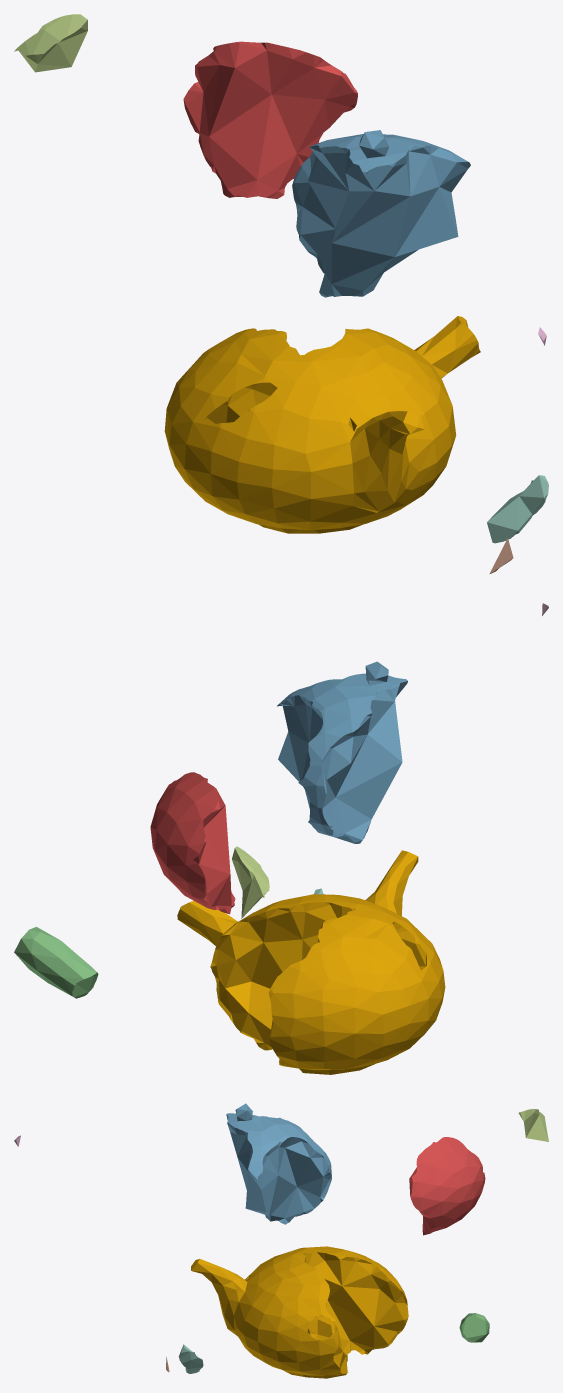
The model's file is fractured_12_8pcs_transformed.glb.
3 renders of one model, top to bottom at view 1: azimuth 30°, elevation 25°; view 2: azimuth 150°, elevation 25°; view 3: azimuth 270°, elevation 25°, orthographic. The views are drawn at different scales.
Visible parts, largest first — view 1: piece_0.obj, piece_2.obj, piece_1.obj, piece_5.obj, piece_4.obj; view 2: piece_0.obj, piece_2.obj, piece_1.obj, piece_3.obj, piece_5.obj; view 3: piece_0.obj, piece_2.obj, piece_1.obj, piece_3.obj, piece_5.obj, piece_4.obj.
Boxes of the visible parts, bbox=[...] form: piece_0.obj: bbox=[164, 316, 480, 533]; piece_2.obj: bbox=[292, 130, 470, 297]; piece_1.obj: bbox=[183, 41, 357, 198]; piece_5.obj: bbox=[14, 14, 87, 72]; piece_4.obj: bbox=[487, 475, 548, 543]; piece_0.obj: bbox=[177, 850, 445, 1074]; piece_2.obj: bbox=[277, 661, 407, 843]; piece_1.obj: bbox=[150, 772, 235, 914]; piece_3.obj: bbox=[14, 927, 98, 998]; piece_5.obj: bbox=[232, 846, 269, 918]; piece_0.obj: bbox=[191, 1246, 408, 1378]; piece_2.obj: bbox=[226, 1103, 331, 1224]; piece_1.obj: bbox=[409, 1137, 485, 1235]; piece_3.obj: bbox=[459, 1313, 489, 1342]; piece_5.obj: bbox=[518, 1109, 548, 1141]; piece_4.obj: bbox=[178, 1344, 203, 1373].
Size of the model in its own units: 1 by 1.09 by 2.08.
